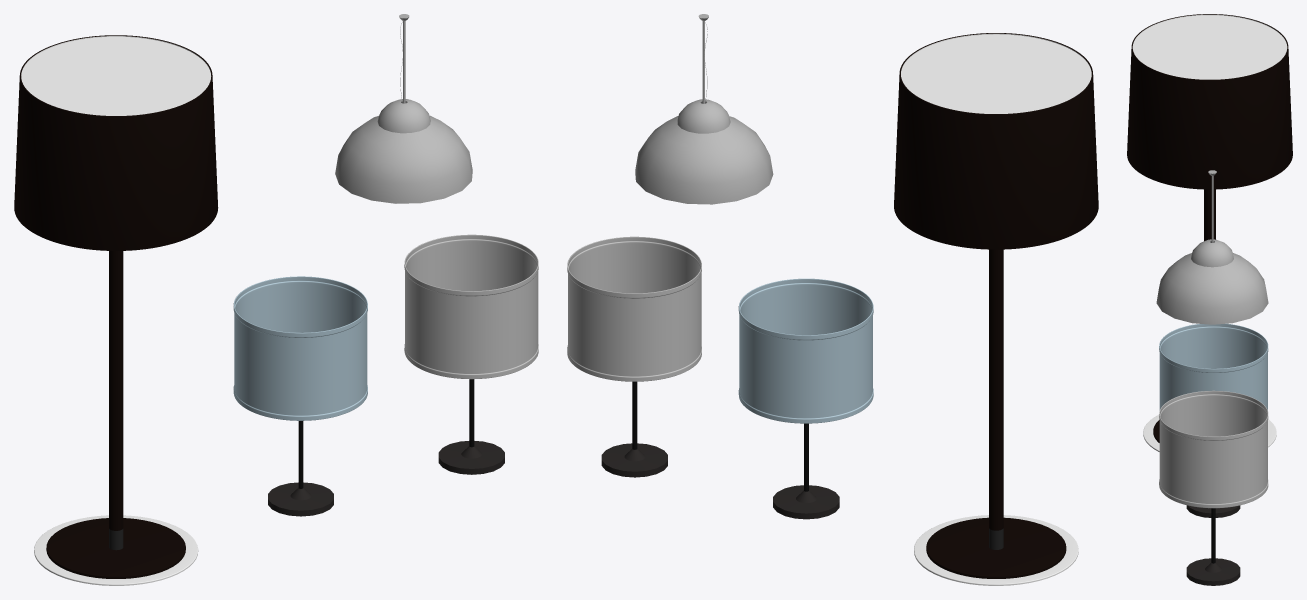
The model's file is lights.fbx.
3 views of the same model, side by side, from view 1: azimuth 30°, elevation 25°; view 2: azimuth 150°, elevation 25°; view 3: azimuth 270°, elevation 25° (orthographic). The views are drawn at different scales.
Parts seen in each view (by area): view 1: Circle380, Plafon.004, Plafon.003, Line290, Circle381, Cone002, Cylinder282, Cylinder283; view 2: Circle380, Plafon.004, Plafon.003, Line290, Circle381, Cone002, Cylinder282, Cylinder283; view 3: Circle380, Plafon.003, Circle381, Plafon.004, Cone002, Cylinder282, Line290, Cylinder283, Metal002.
Part boxes in pixels (left/top/right/bottom): Circle380: left=14, top=35, right=218, bottom=250; Plafon.004: left=233, top=276, right=367, bottom=420; Plafon.003: left=404, top=234, right=538, bottom=379; Line290: left=34, top=251, right=198, bottom=585; Circle381: left=21, top=36, right=211, bottom=115; Cone002: left=335, top=14, right=472, bottom=203; Cylinder282: left=438, top=441, right=504, bottom=474; Cylinder283: left=268, top=482, right=333, bottom=516; Circle380: left=894, top=33, right=1098, bottom=249; Plafon.004: left=738, top=278, right=873, bottom=423; Plafon.003: left=567, top=236, right=701, bottom=381; Line290: left=914, top=249, right=1078, bottom=585; Circle381: left=901, top=34, right=1091, bottom=113; Cone002: left=635, top=14, right=773, bottom=204; Cylinder282: left=601, top=443, right=667, bottom=477; Cylinder283: left=773, top=485, right=839, bottom=519; Circle380: left=1127, top=14, right=1292, bottom=189; Plafon.003: left=1159, top=390, right=1268, bottom=508; Circle381: left=1132, top=15, right=1287, bottom=79; Plafon.004: left=1159, top=323, right=1268, bottom=410; Cone002: left=1156, top=170, right=1268, bottom=324; Cylinder282: left=1186, top=558, right=1240, bottom=585; Line290: left=1143, top=189, right=1276, bottom=451; Cylinder283: left=1186, top=505, right=1240, bottom=517; Metal002: left=1211, top=508, right=1215, bottom=563.
Size of the model in its own units: 21.99 by 19.81 by 7.7.
